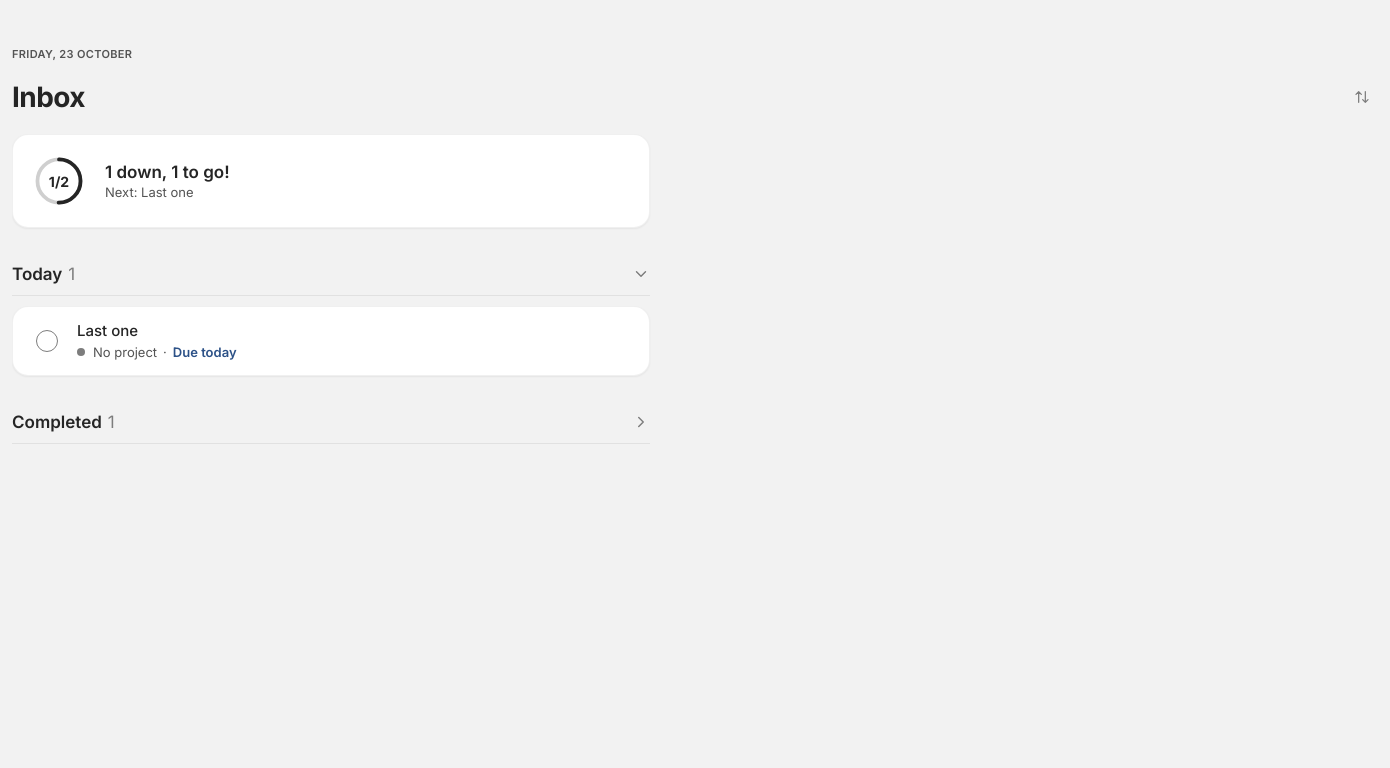
Test: Inbox screen › shows "Nothing left for today" linking to Upcoming, and focuses it after the last tick (T-LV-04, T-LV-111)
This screenshot has width=1390, height=768.
Step 1. Click the checkbox named "Complete Last one" → (47,341), box 25,319 -> 69,363
Wait 700 ms
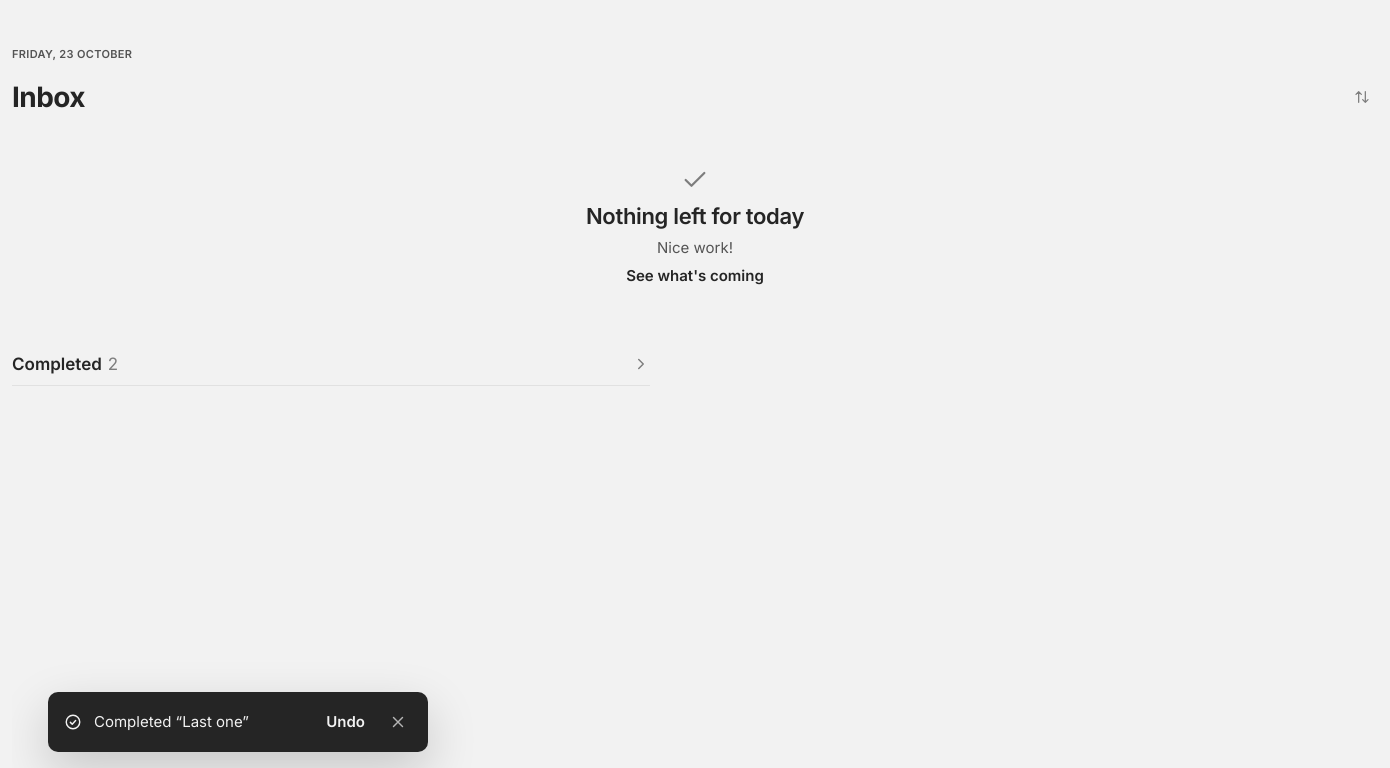
Check: the text "Nice work!" is shown, box 657,238 -> 733,258
